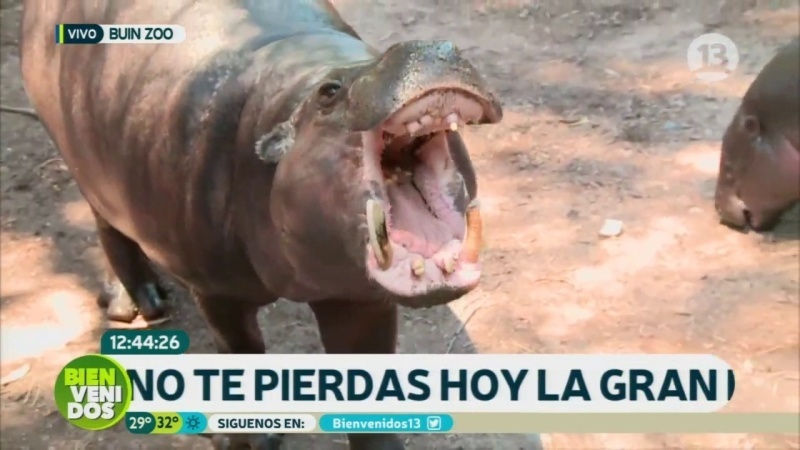hipopotamo: (14, 1, 521, 353)
